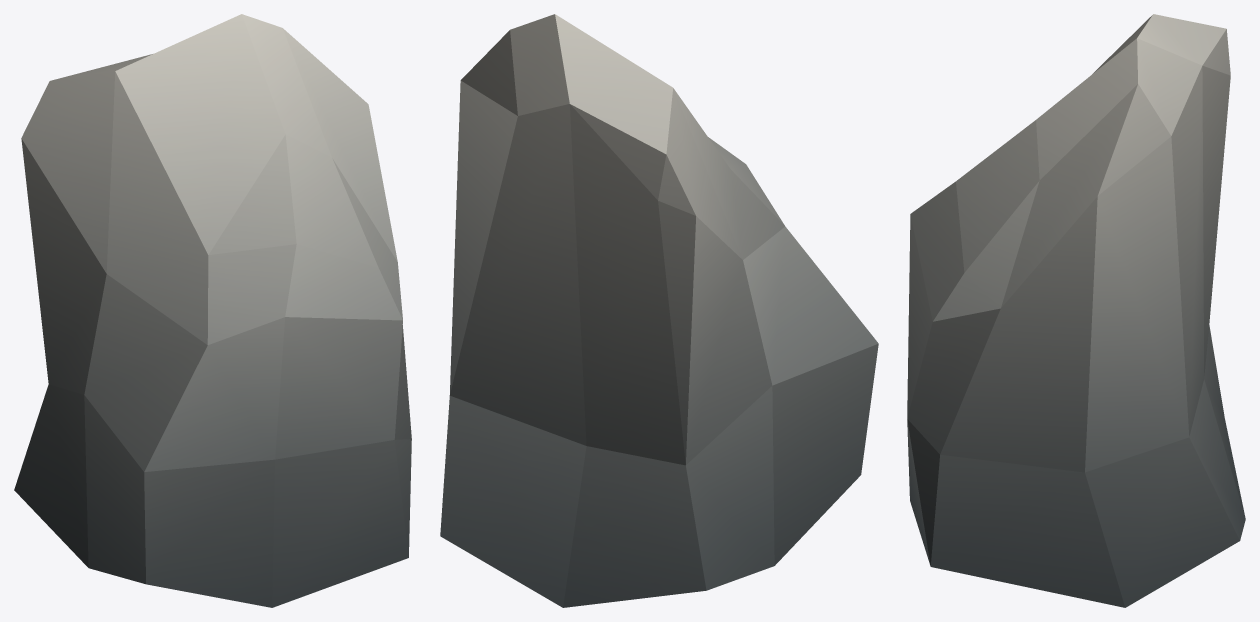
File: Rock_Small_B.fbx
3 renders of one model, left to right at view 1: azimuth 30°, elevation 25°; view 2: azimuth 150°, elevation 25°; view 3: azimuth 270°, elevation 25°, orthographic. The views are drawn at different scales.
Visible parts, largest first — view 1: Rock_Small_B; view 2: Rock_Small_B; view 3: Rock_Small_B.
Boxes of the visible parts, left/top/right/bottom form: Rock_Small_B: left=14, top=14, right=411, bottom=607; Rock_Small_B: left=440, top=14, right=878, bottom=607; Rock_Small_B: left=907, top=14, right=1245, bottom=607.
Bounding box in the file's own units: 64.04 × 103 × 59.82.
